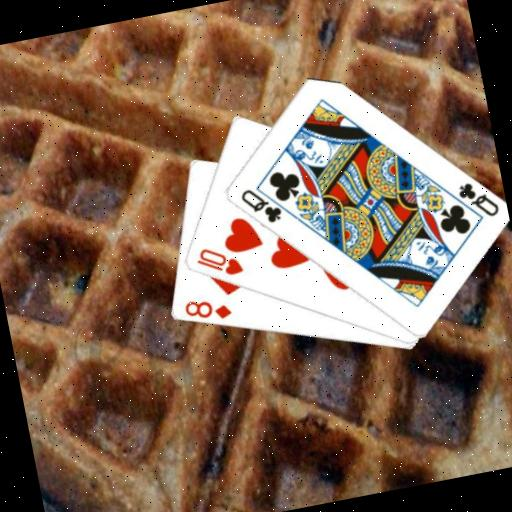10H: (191, 239, 246, 285)
8D: (179, 290, 235, 328)
QC: (236, 180, 285, 230), (453, 174, 502, 224)
